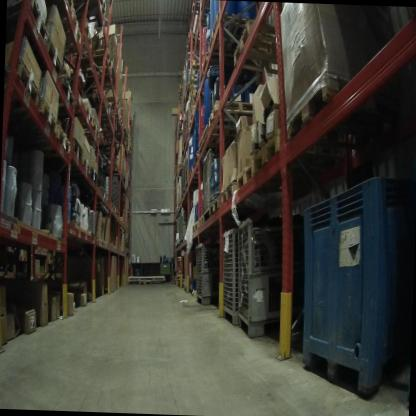pallet: (286, 65, 396, 161), (251, 119, 359, 186), (238, 154, 362, 205), (228, 19, 305, 87), (206, 10, 267, 60), (199, 120, 263, 163), (199, 52, 259, 93), (8, 0, 59, 48), (13, 100, 54, 149), (207, 97, 264, 130), (13, 54, 40, 116), (41, 12, 86, 48), (68, 47, 113, 71), (50, 119, 72, 162), (71, 0, 109, 24), (48, 77, 74, 109), (46, 39, 67, 78), (83, 68, 117, 92), (64, 100, 96, 124), (64, 132, 85, 164), (222, 177, 240, 210), (184, 30, 208, 54), (52, 0, 79, 20), (78, 122, 101, 141), (78, 150, 93, 177), (99, 197, 117, 216), (209, 195, 222, 220), (90, 163, 101, 187), (190, 0, 206, 14), (191, 219, 198, 235), (199, 213, 205, 230), (99, 0, 109, 10), (136, 280, 150, 287), (119, 212, 120, 224)
stillage: (235, 197, 312, 342), (217, 213, 245, 331), (195, 230, 228, 311), (198, 146, 221, 221), (181, 202, 193, 243)
